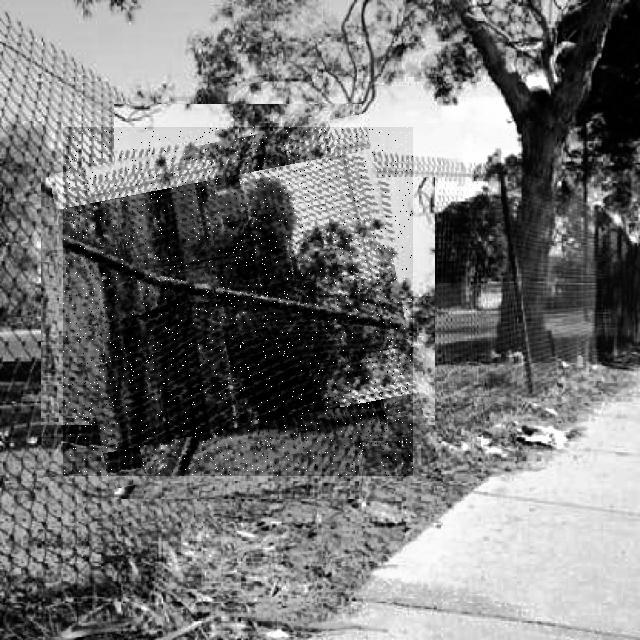anomaly-fence: (63, 127, 413, 476)
